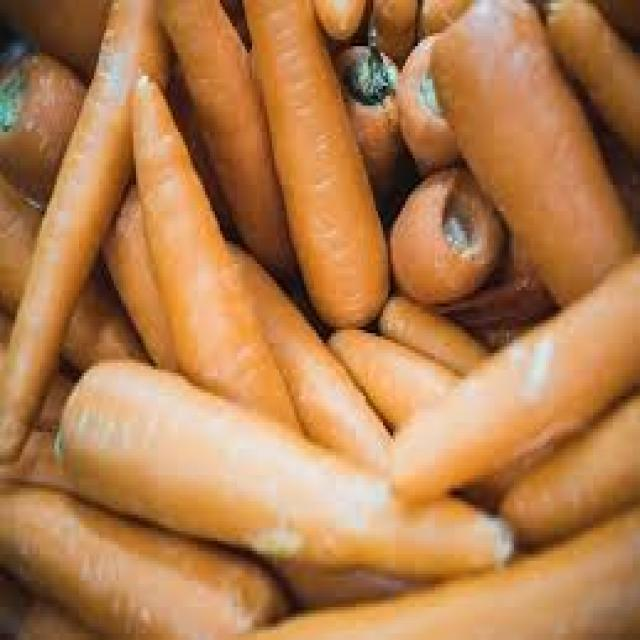organic waste: (0, 0, 638, 637), (54, 353, 509, 584), (0, 0, 173, 462), (128, 73, 306, 432), (428, 0, 632, 310), (388, 247, 637, 495), (232, 498, 638, 637), (242, 0, 390, 323), (0, 472, 287, 633), (324, 323, 568, 495), (222, 234, 388, 462), (156, 0, 294, 271), (0, 172, 153, 372), (499, 386, 638, 548), (386, 162, 504, 300), (101, 178, 180, 370), (541, 0, 638, 152), (0, 42, 86, 201), (331, 36, 400, 185), (373, 290, 484, 376), (255, 558, 420, 614), (398, 26, 462, 162), (0, 564, 116, 637), (0, 307, 72, 422), (0, 0, 104, 69), (0, 422, 62, 488), (368, 0, 417, 59), (309, 0, 366, 36), (415, 0, 477, 33)
